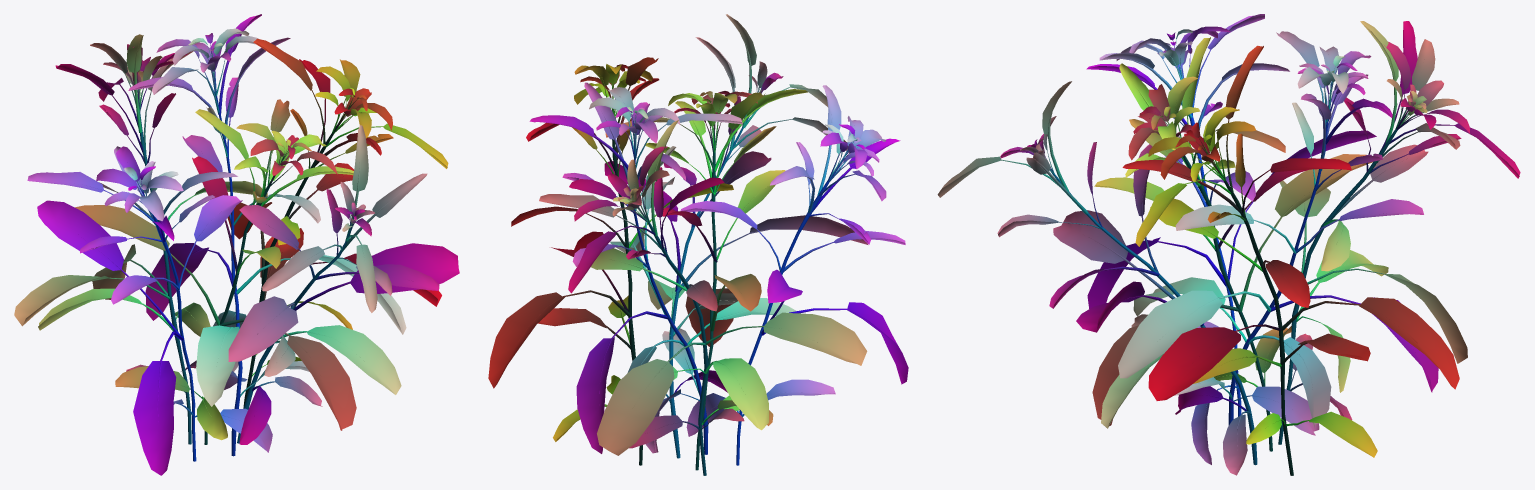
The model's file is Sage_ve3gbfoja_Mid_ve3gbfoja_VarA_LOD0.fbx.
The picture shows the model from 3 angles, left to right: view 1: azimuth 30°, elevation 25°; view 2: azimuth 150°, elevation 25°; view 3: azimuth 270°, elevation 25°; orthographic projection. The views are drawn at different scales.
Parts seen in each view (by area): view 1: _1tal_VarA_LOD1; view 2: _1tal_VarA_LOD1; view 3: _1tal_VarA_LOD1.
Boxes of the visible parts, x1,y1,x2,y2 form: _1tal_VarA_LOD1: (14, 14, 459, 475); _1tal_VarA_LOD1: (488, 14, 908, 475); _1tal_VarA_LOD1: (937, 14, 1520, 475).
Bounding box in the file's own units: 71.54 × 73.1 × 89.74.
